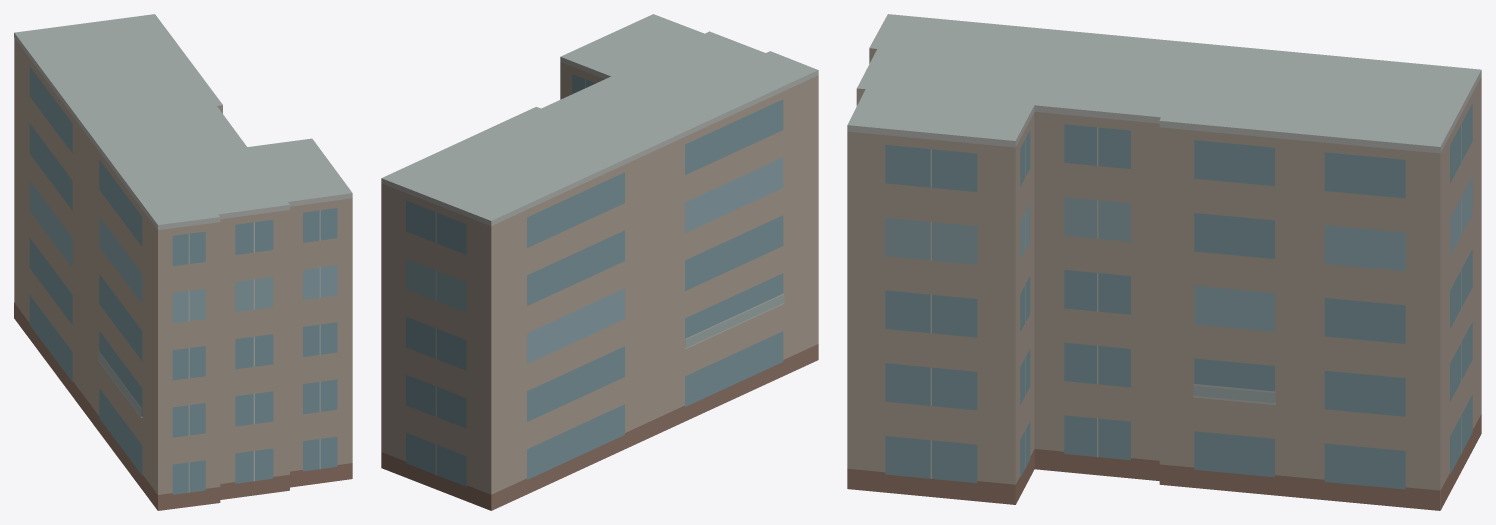
The model's file is survey-upis-32916555.glb.
The picture shows the model from 3 angles, left to right: view 1: azimuth 30°, elevation 25°; view 2: azimuth 150°, elevation 25°; view 3: azimuth 270°, elevation 25°; orthographic projection. The views are drawn at different scales.
Parts seen in each view (by area): view 1: survey-upis-32916555.tmp; view 2: survey-upis-32916555.tmp; view 3: survey-upis-32916555.tmp.
Part boxes in pixels (bbox=[...]): survey-upis-32916555.tmp: bbox=[14, 14, 352, 510]; survey-upis-32916555.tmp: bbox=[381, 14, 818, 510]; survey-upis-32916555.tmp: bbox=[847, 14, 1481, 510].
Bounding box in the file's own units: 10.83 × 13.8 × 21.81.
